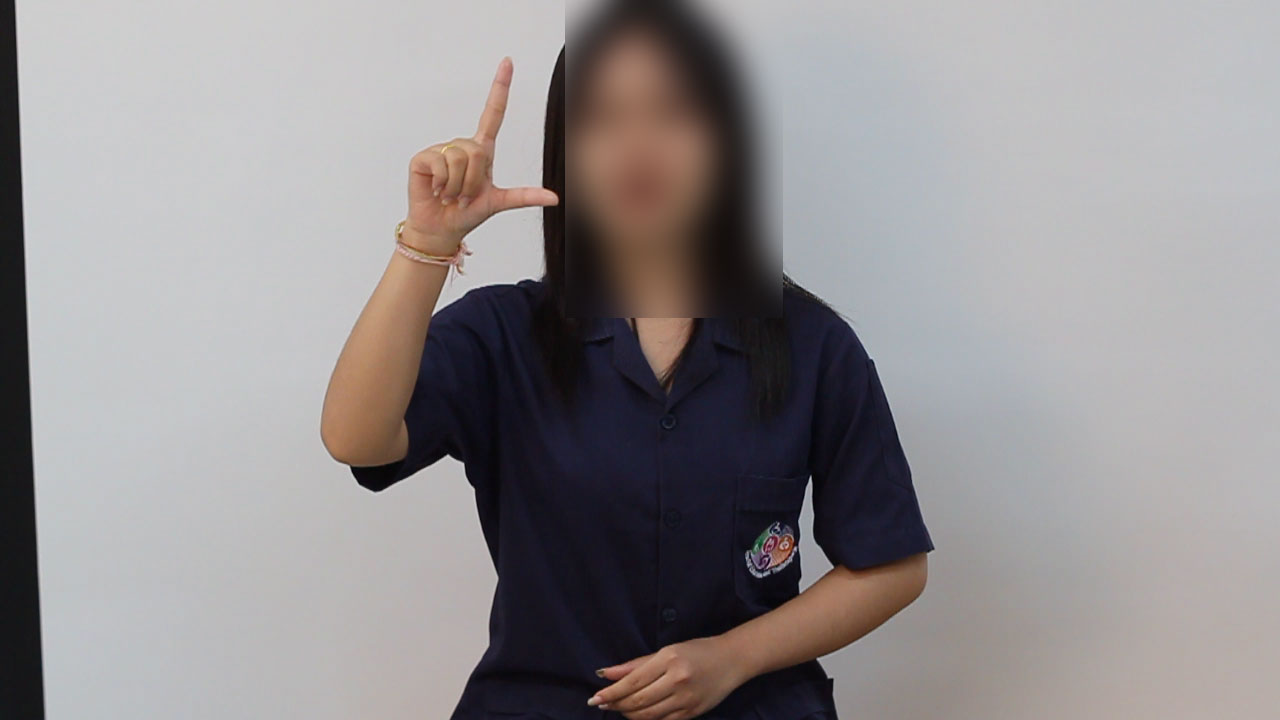lor: (377, 60, 598, 226)
